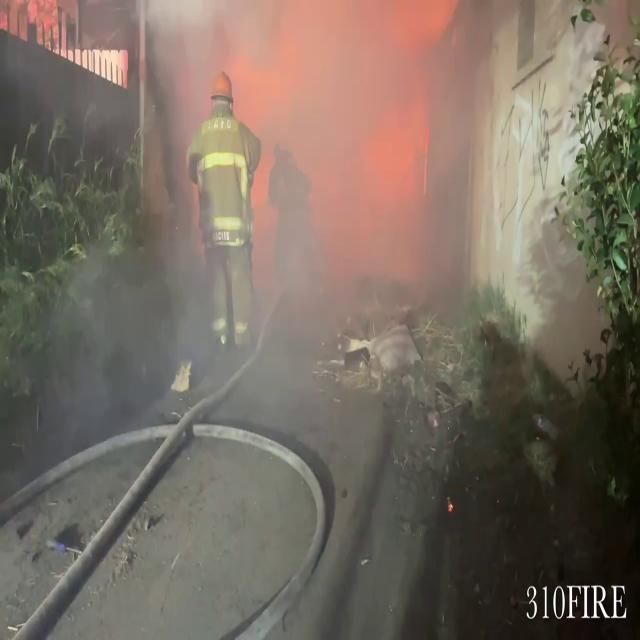Smoke: (97, 0, 548, 441)
